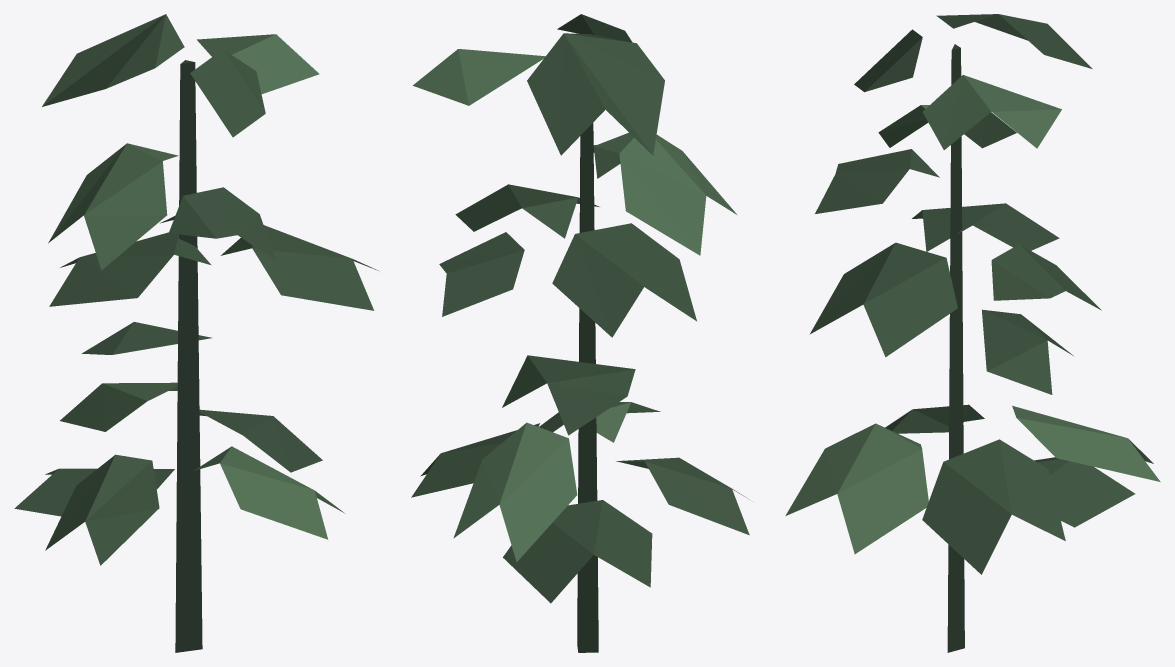
Rendered from SM_Env_GroundLeaves_03.glb.
The picture shows the model from 3 angles, left to right: view 1: azimuth 30°, elevation 25°; view 2: azimuth 150°, elevation 25°; view 3: azimuth 270°, elevation 25°; orthographic projection. The views are drawn at different scales.
Parts seen in each view (by area): view 1: SM_Env_GroundLeaves_03_part00; view 2: SM_Env_GroundLeaves_03_part00; view 3: SM_Env_GroundLeaves_03_part00.
Part boxes in pixels (left/top/right/bottom): SM_Env_GroundLeaves_03_part00: left=14, top=14, right=378, bottom=652; SM_Env_GroundLeaves_03_part00: left=411, top=14, right=749, bottom=652; SM_Env_GroundLeaves_03_part00: left=785, top=14, right=1160, bottom=652.
Size of the model in its own units: 0.4353 by 0.8231 by 0.4426.
Materials: 1 (1 with a texture image).
